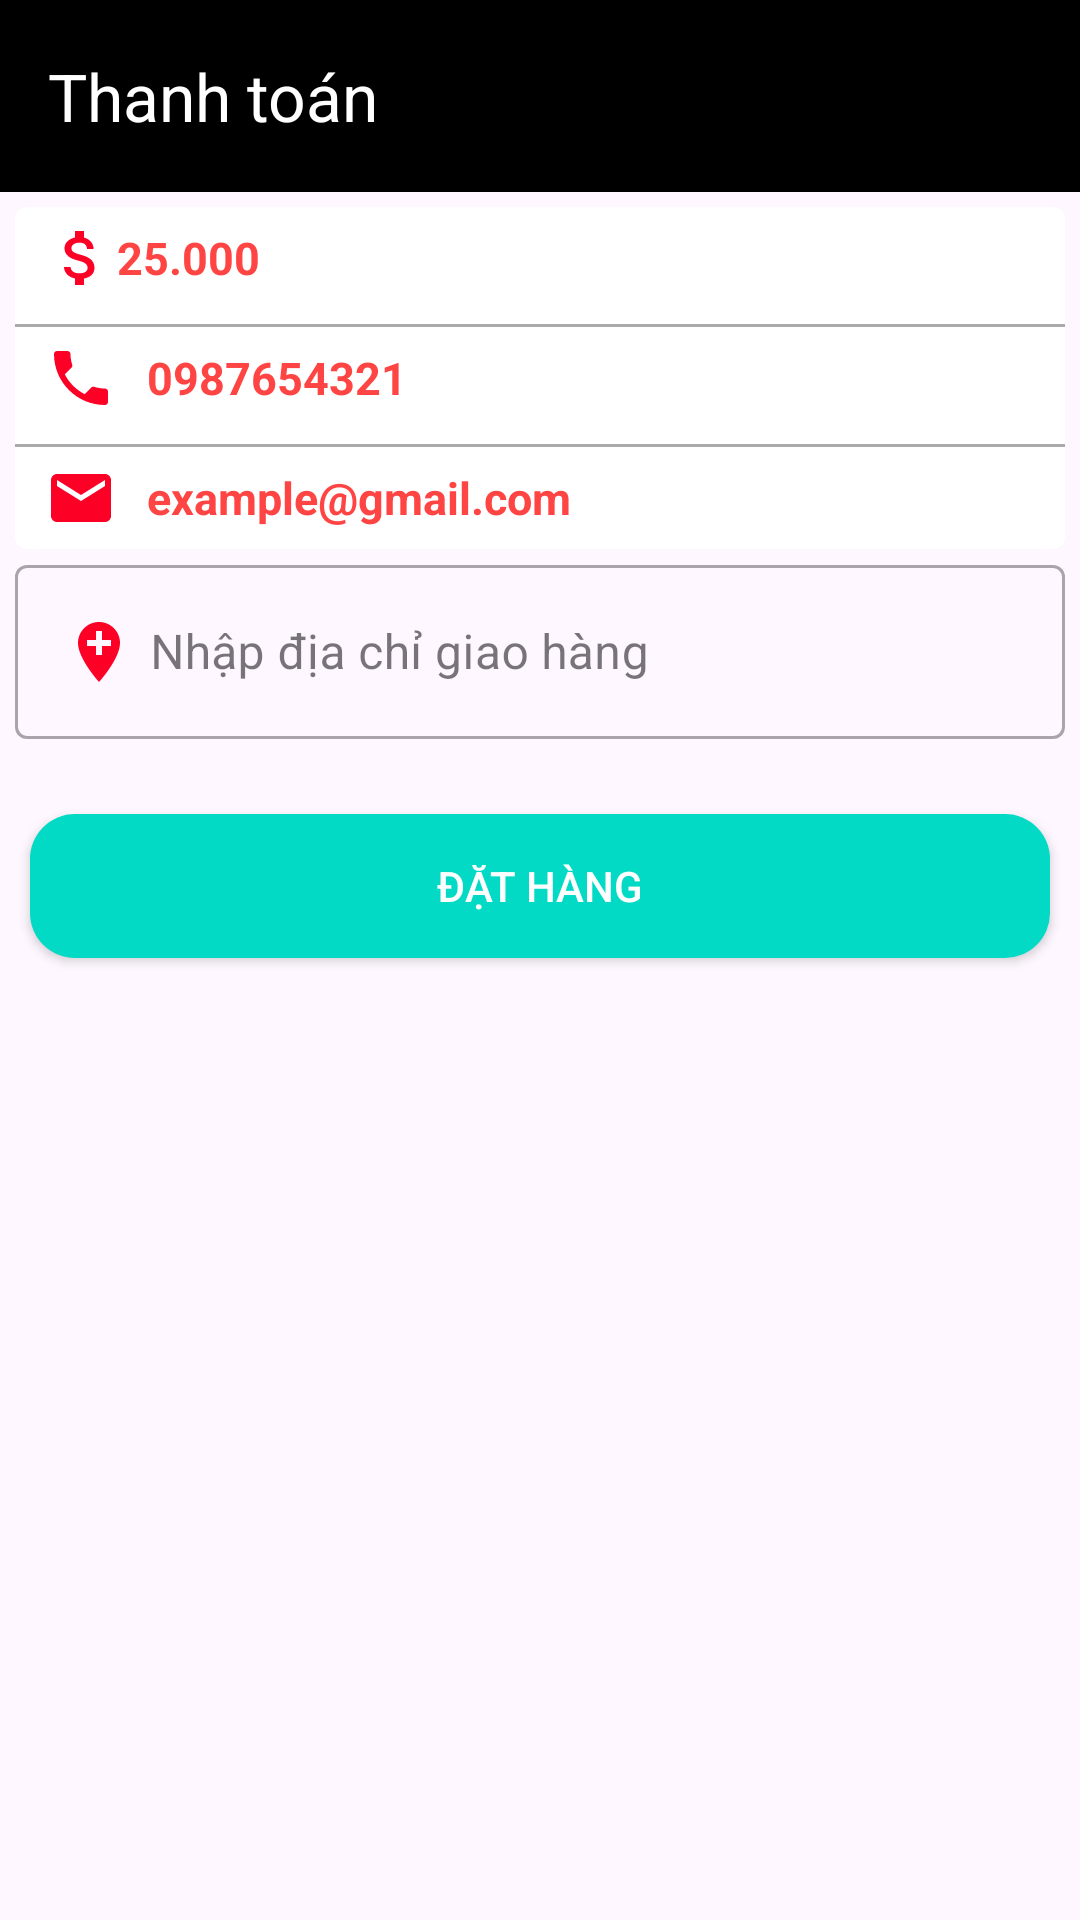

Icon click points for this 1080 × 1920 phone screenshot, format point (x, y):
attach money: point (79, 258)
email: point (81, 498)
local phone: point (81, 378)
